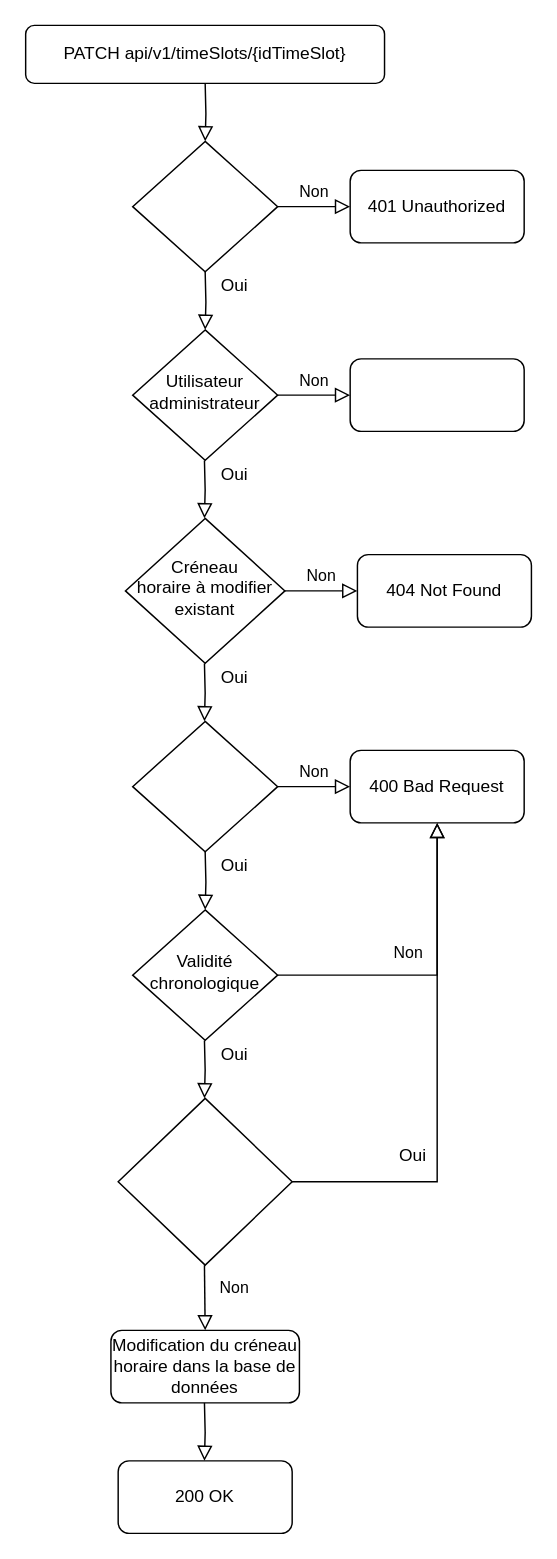
Image size: 557x1559. Some labels were removed from this diagram. Here are the shapes that lost their labels. From the top down, the centre of each, then its label:
At pixel 204 206: "Header Authorization présent".
At pixel 436 394: "403 Forbidden".
At pixel 204 786: "Validité du format d'heure".
At pixel 204 1181: "Chevauchement d'horaire".
